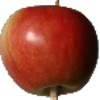apple: (1, 6, 99, 98)
